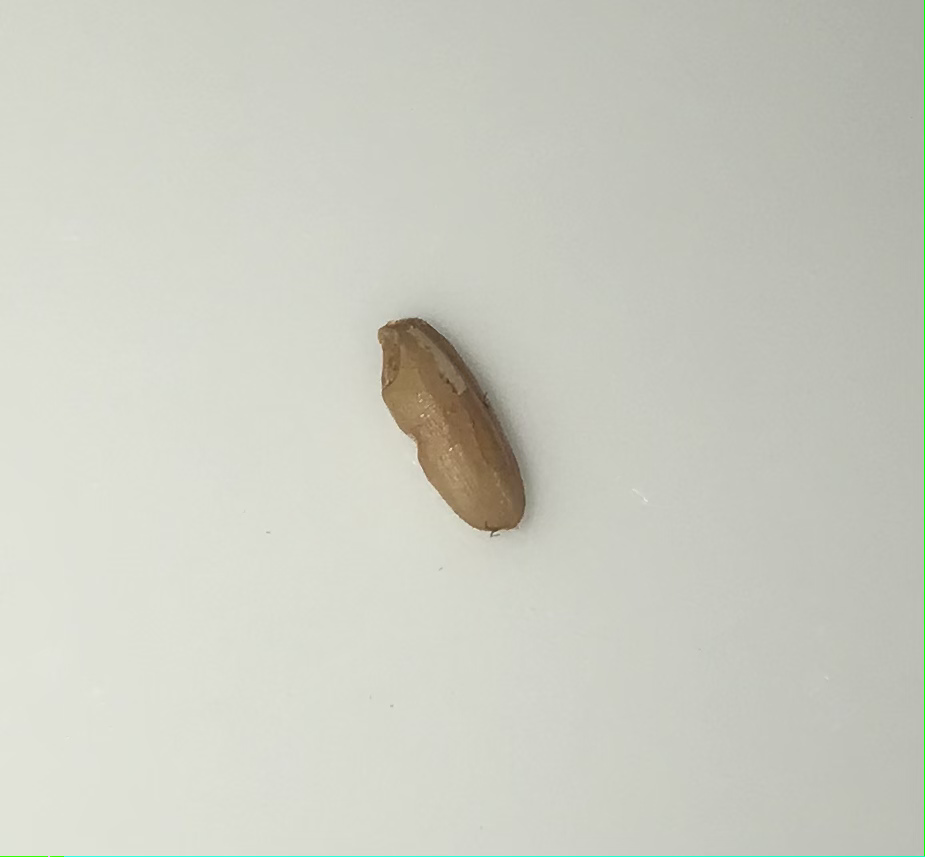Gao Lut Dien Bien: (370, 293, 543, 547)
